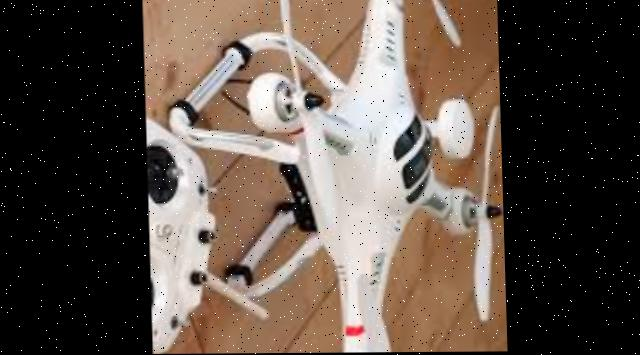drone: (166, 0, 505, 354)
